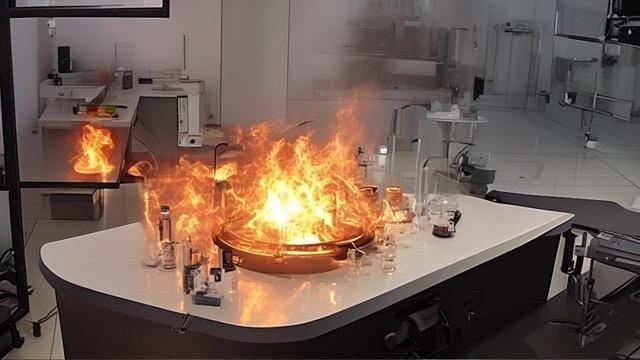fire: (65, 113, 413, 286)
